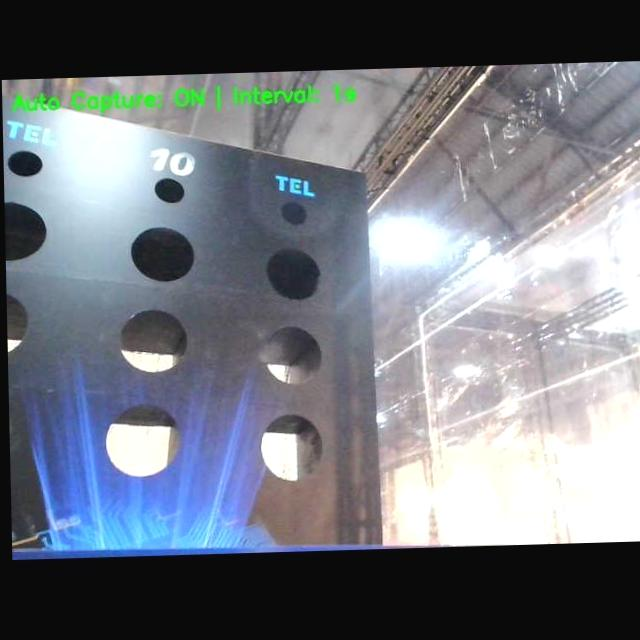hole: (105, 403, 181, 477), (261, 412, 325, 484), (118, 308, 188, 371), (131, 226, 195, 282), (265, 325, 322, 387), (267, 247, 322, 301), (4, 200, 48, 261), (9, 149, 42, 178), (155, 178, 185, 204), (281, 201, 308, 226)
